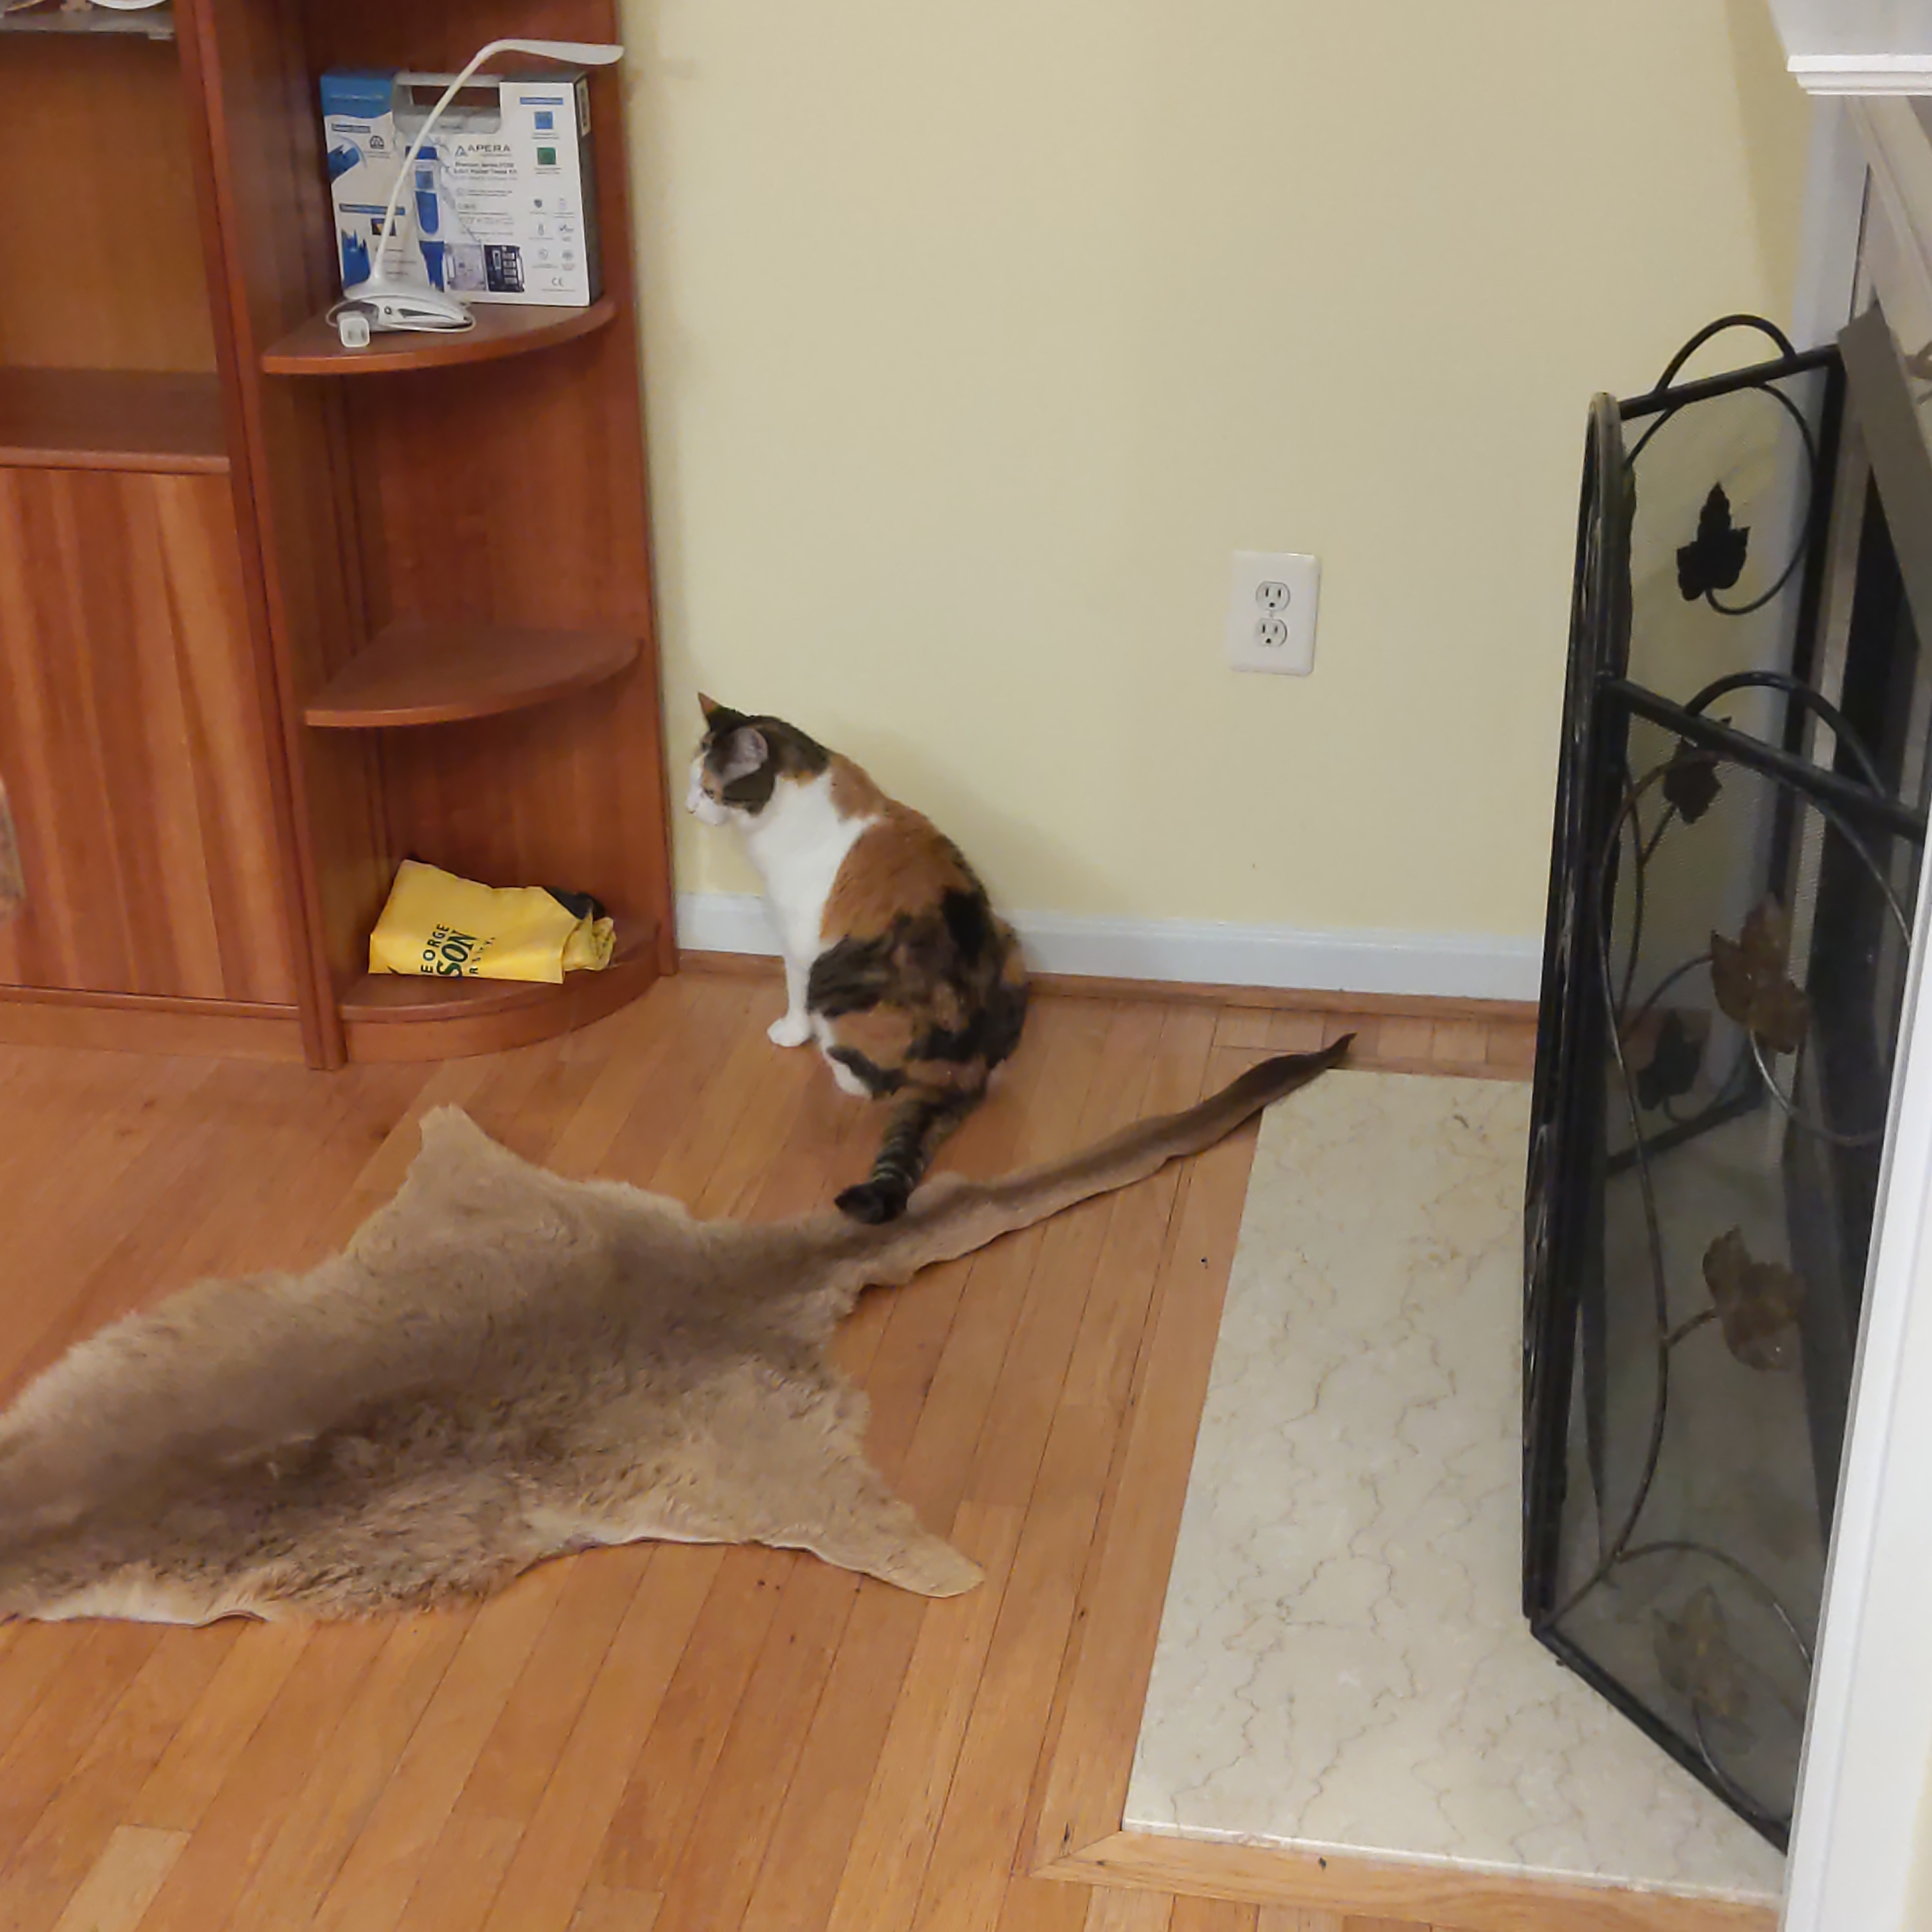Calico: (685, 692, 1031, 1223)
